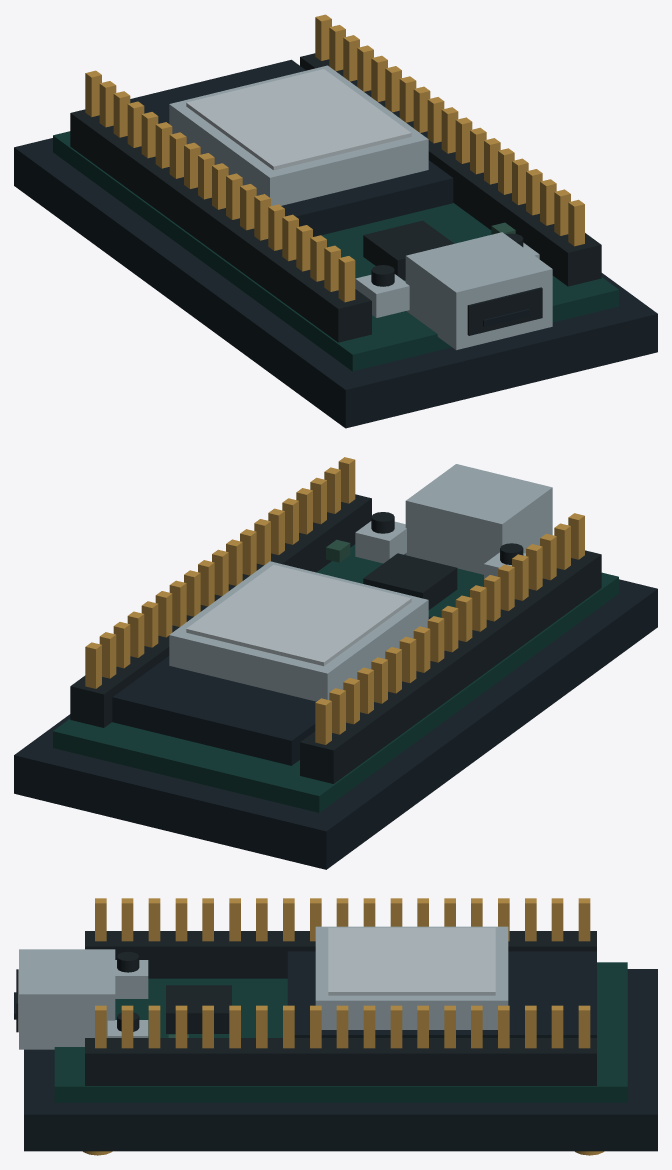
The model's file is esp32-low.glb.
3 renders of one model, top to bottom at view 1: azimuth 30°, elevation 25°; view 2: azimuth 150°, elevation 25°; view 3: azimuth 270°, elevation 25°, orthographic. The views are drawn at different scales.
Visible parts, largest first — view 1: black-anodised, matte-polymer, plated-brass, stainless-steel, pcb-solder-mask, satin-aluminium; view 2: black-anodised, plated-brass, matte-polymer, stainless-steel, pcb-solder-mask, satin-aluminium; view 3: black-anodised, matte-polymer, plated-brass, pcb-solder-mask, stainless-steel, satin-aluminium.
Boxes of the visible parts, <box> form: black-anodised: <box>14,59,657,428</box>; matte-polymer: <box>70,53,601,342</box>; plated-brass: <box>85,14,584,302</box>; stainless-steel: <box>169,65,552,350</box>; pcb-solder-mask: <box>53,131,618,371</box>; satin-aluminium: <box>186,69,411,170</box>; black-anodised: <box>14,579,657,869</box>; plated-brass: <box>85,457,584,744</box>; matte-polymer: <box>70,494,601,783</box>; stainless-steel: <box>169,464,552,701</box>; pcb-solder-mask: <box>53,544,618,812</box>; satin-aluminium: <box>186,565,411,666</box>; black-anodised: <box>14,951,657,1151</box>; matte-polymer: <box>16,931,596,1085</box>; plated-brass: <box>83,898,604,1155</box>; pcb-solder-mask: <box>54,962,627,1102</box>; stainless-steel: <box>19,926,508,1049</box>; satin-aluminium: <box>328,927,495,995</box>.
Size of the model in its own units: 0.68 by 0.315 by 1.27.
